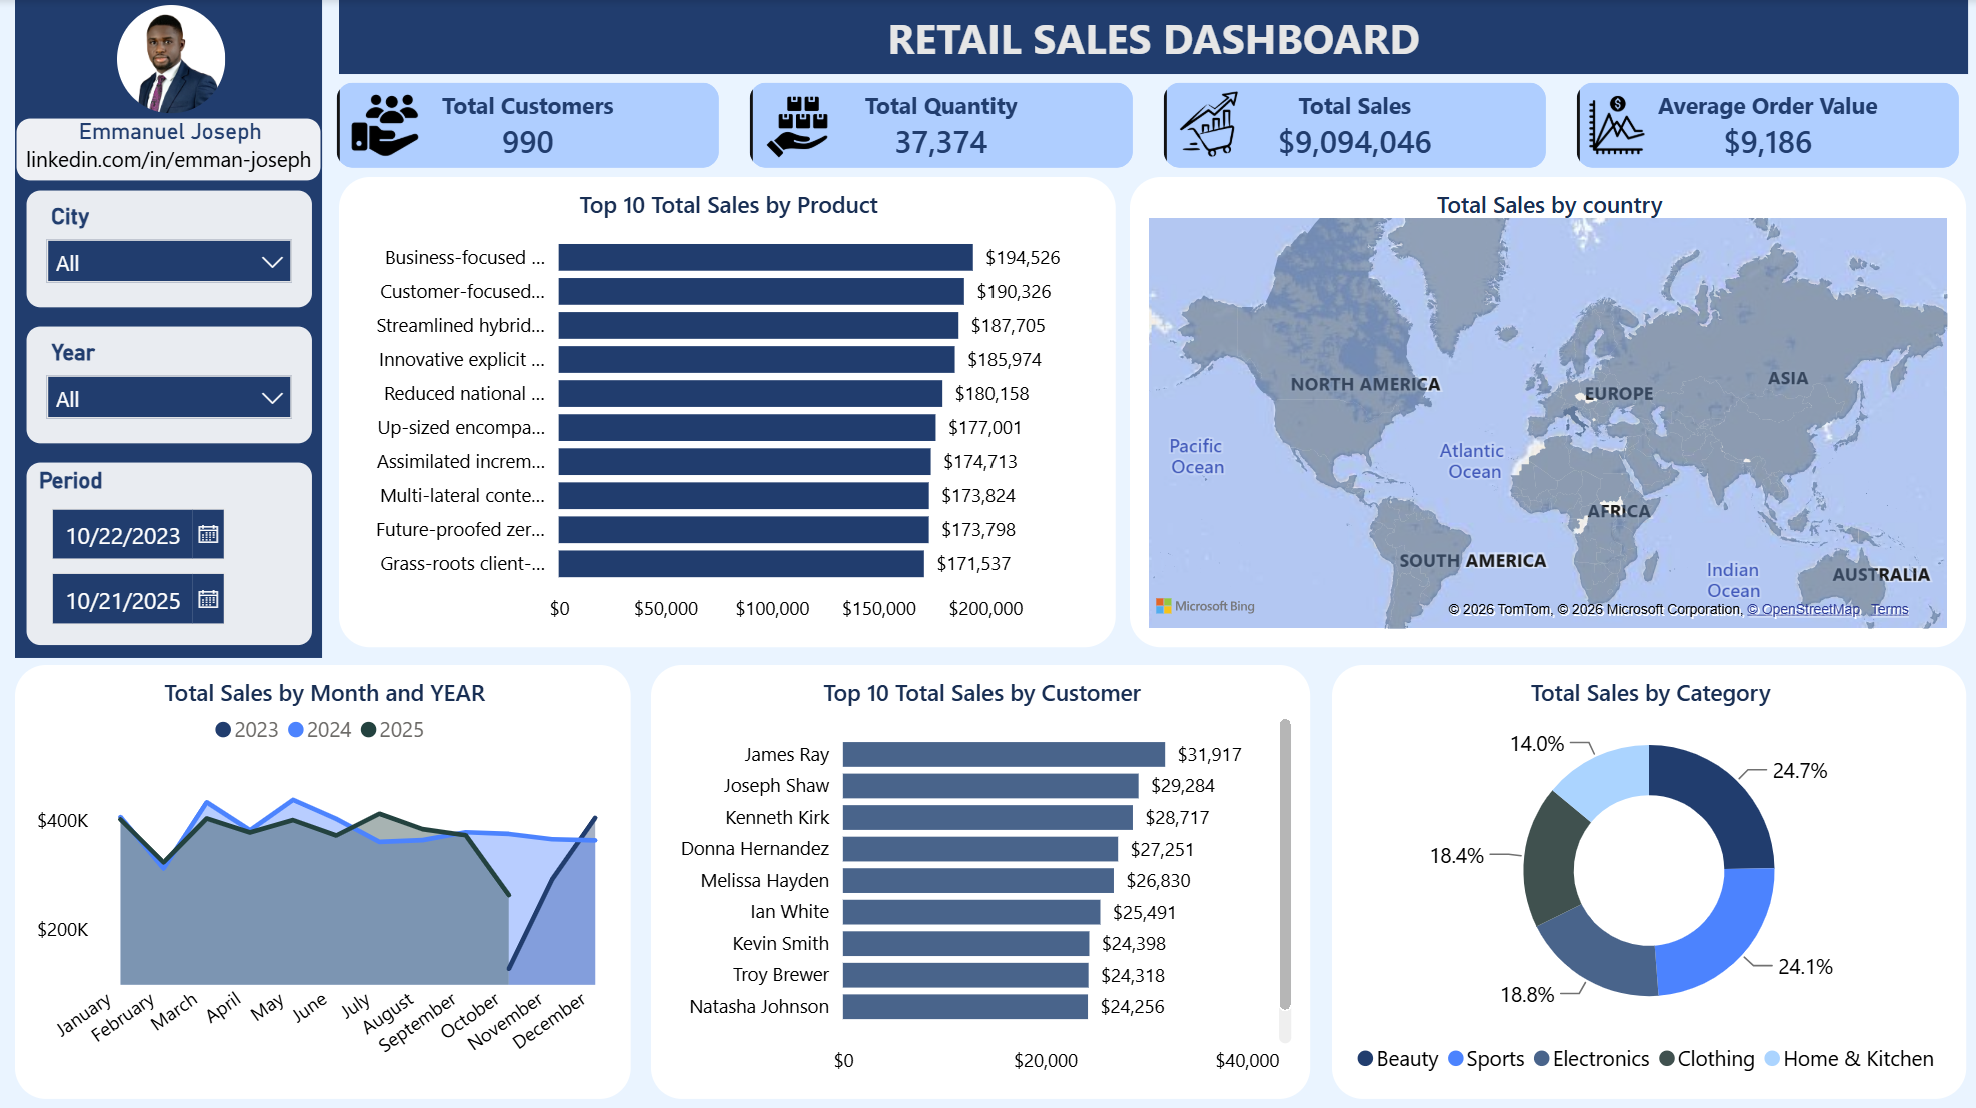

The dashboard page shown, as its layout file describes it:
{"tool":"powerbi","page":{"name":"Retail_Sales_Dashboard","canvas":[1280,720],"ordinal":0},"visuals":[{"type":"cardVisual","fields":{"Data":["measure.Total Customers","measure.Total Quantity","measure.Total Sales","measure.Average Order Value"]},"box":[213.8,48.5,1061.6,65.2],"z":0},{"type":"areaChart","fields":{"Y":["measure.Total Sales"],"Series":["dim_date.YEAR"],"Category":["dim_date.full_date.Variation.Date Hierarchy.Month"]},"box":[10.3,430.5,398.2,280.6],"z":1000},{"type":"clusteredBarChart","title":"Top 10 Total Sales by Customer","fields":{"Category":["dim_customers.full_name"],"Y":["measure.Total Sales"]},"box":[421.5,430.5,425.4,280.6],"z":2000},{"type":"clusteredBarChart","title":"Top 10 Total Sales by Product","fields":{"Category":["dim_products.product_name"],"Y":["measure.Total Sales"]},"box":[219.8,115.1,501.7,303.8],"z":3000},{"type":"donutChart","title":"Total Sales by Category","fields":{"Y":["measure.Total Sales"],"Category":["dim_products.category"]},"box":[861.1,430.5,409.9,280.6],"z":4000},{"type":"shape","box":[219.9,0,1052.5,48.5],"z":5000},{"type":"shape","box":[10.6,0,198.7,426.2],"z":6000},{"type":"filledMap","fields":{"Category":["dim_customers.country"]},"box":[730.5,115.1,540.4,303.8],"z":7000},{"type":"slicer","title":"Period","fields":{"Values":["dim_date.full_date"]},"box":[16.7,298.8,186.5,119.8],"z":8000},{"type":"slicer","fields":{"Values":["dim_date.YEAR"]},"box":[16.7,210.8,186.5,77.3],"z":9000},{"type":"slicer","fields":{"Values":["dim_customers.city"]},"box":[16.7,122.8,186.5,77.3],"z":10000},{"type":"image","box":[76.3,3.9,69.8,69.8],"z":11000},{"type":"textbox","title":"Emmanuel Joseph","box":[10.6,75.8,198.7,42],"z":12000},{"type":"image","box":[226.3,56.9,46.5,49.1],"z":12001},{"type":"image","box":[484.8,62.1,62.1,41.4],"z":12002},{"type":"image","box":[753.8,55.6,55.6,50.4],"z":12003},{"type":"image","box":[1024,44,42.7,75],"z":12004}]}

Visuals, with their boxes in screenshot pixels (x1, y1, x2, y2), scaled from the page's 1280x720 canvas onto the 1976x1108 screenshot:
cardVisual - measure.Total Customers x measure.Total Quantity: 330:75:1969:175
areaChart - measure.Total Sales x dim_date.YEAR: 16:662:631:1094
"Top 10 Total Sales by Customer" clusteredBarChart: 651:662:1307:1094
"Top 10 Total Sales by Product" clusteredBarChart: 339:177:1114:645
"Total Sales by Category" donutChart: 1329:662:1962:1094
shape: 339:0:1964:75
shape: 16:0:323:656
filledMap - dim_customers.country: 1128:177:1962:645
"Period" slicer: 26:460:314:644
slicer - dim_date.YEAR: 26:324:314:443
slicer - dim_customers.city: 26:189:314:308
image: 118:6:226:113
"Emmanuel Joseph" textbox: 16:117:323:181
image: 349:88:421:163
image: 748:96:844:159
image: 1164:86:1250:163
image: 1581:68:1647:183
